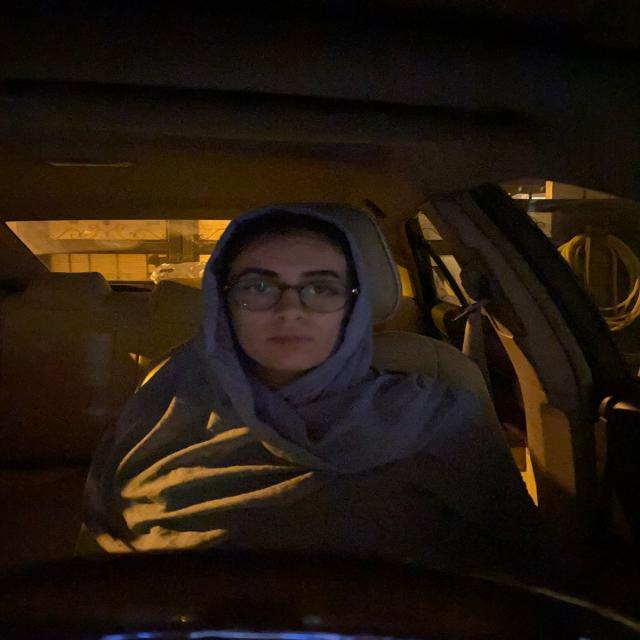person: (204, 204, 366, 380)
